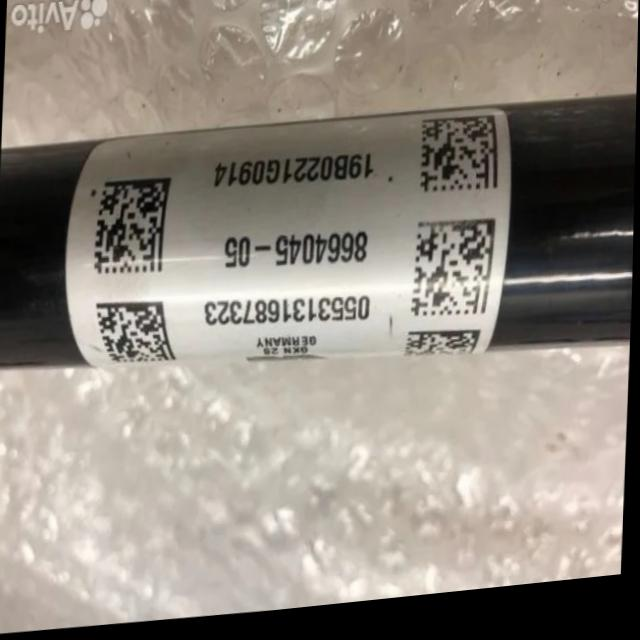datamatrix: (412, 224, 497, 331), (94, 178, 173, 282), (420, 123, 500, 205), (405, 335, 482, 370)
